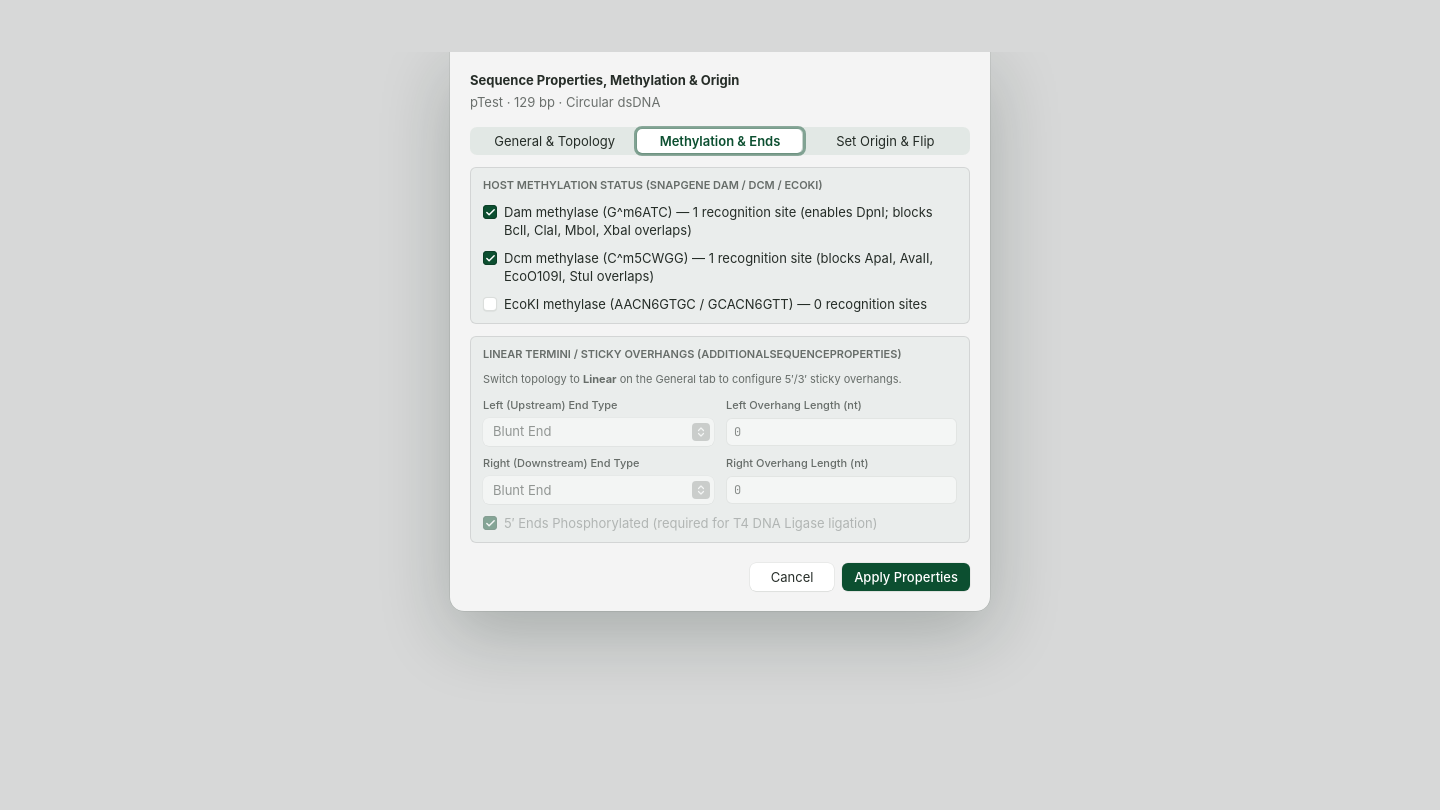
SnapGene Sequence Properties, Methylation & Origin Dialog › displays Dam/Dcm/EcoKI methylation counts and rotates circular origin
Expected: the text "Host Methylation Status (SnapGene Dam / Dcm / EcoKI)" is shown, [483,178,822,192]
Note: Switch to Set Origin & Flip tab
What coordinates should you click on to do the following:
click the radio button labelled "Set Origin & Flip"
I would click on:
 (885, 141)
Its box is [803,129,968,153].
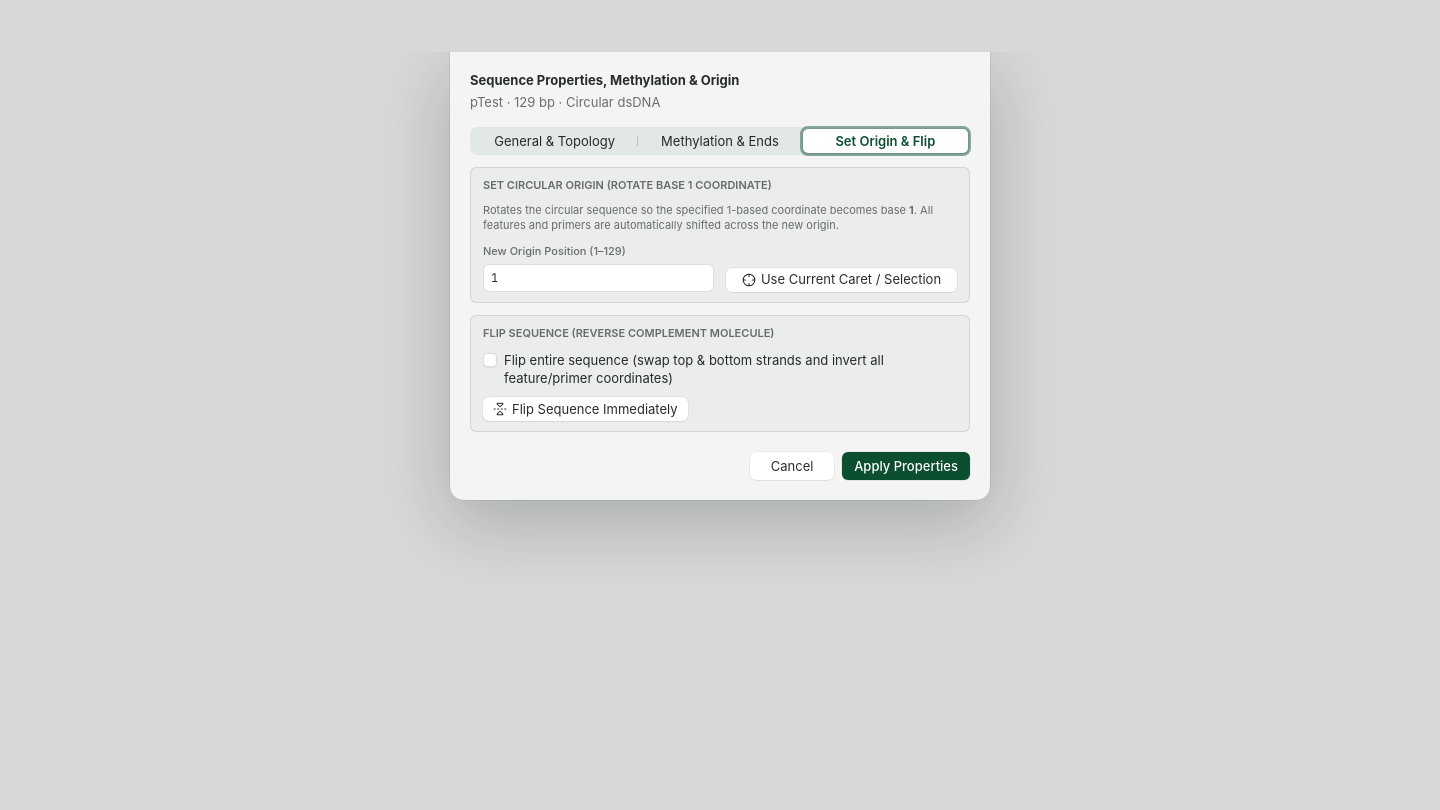
Result: the text "Set Circular Origin (Rotate Base 1 Coordinate)" is shown at [483,178,772,192]
